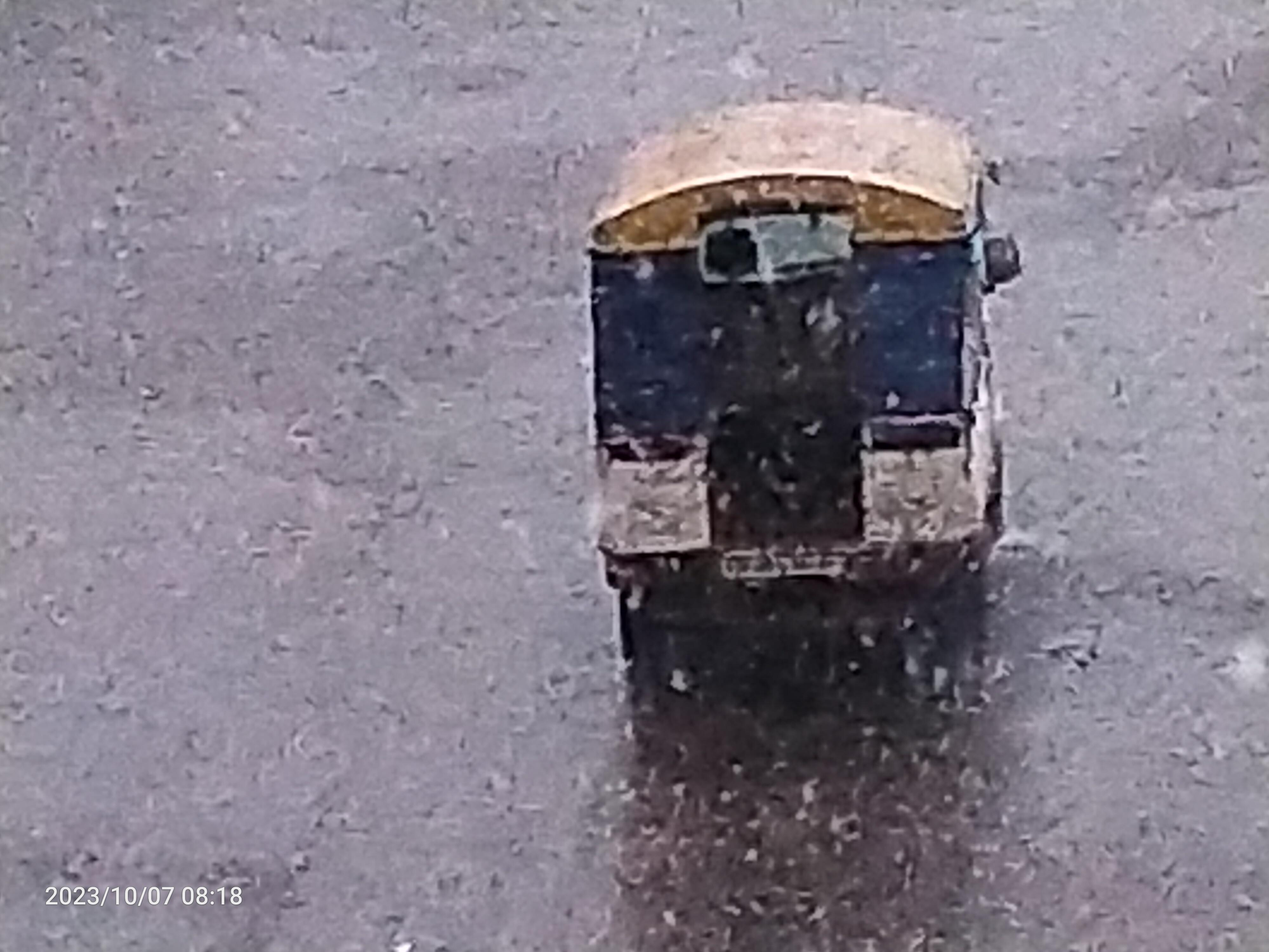Car: (526, 62, 1088, 717)
